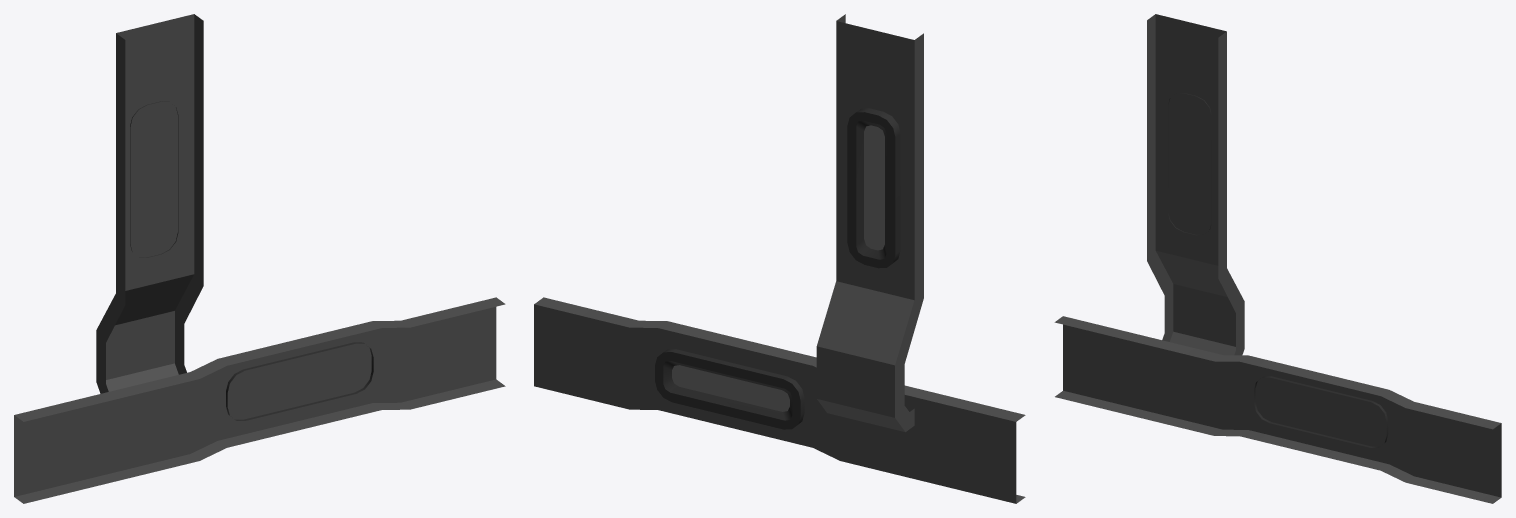
The model's file is SM_wall_front_026.fbx.
The picture shows the model from 3 angles, left to right: view 1: azimuth 30°, elevation 25°; view 2: azimuth 150°, elevation 25°; view 3: azimuth 330°, elevation 25°; orthographic projection. The views are drawn at different scales.
Visible parts, largest first — view 1: SM_wall_front_026; view 2: SM_wall_front_026; view 3: SM_wall_front_026.
Boxes of the visible parts, x1,y1,x2,y2 form: SM_wall_front_026: (14, 14, 505, 503); SM_wall_front_026: (534, 14, 1025, 503); SM_wall_front_026: (1054, 14, 1501, 503).
Size of the model in its own units: 300 by 261 by 31.21.
Materials: 2 (2 with a texture image).
